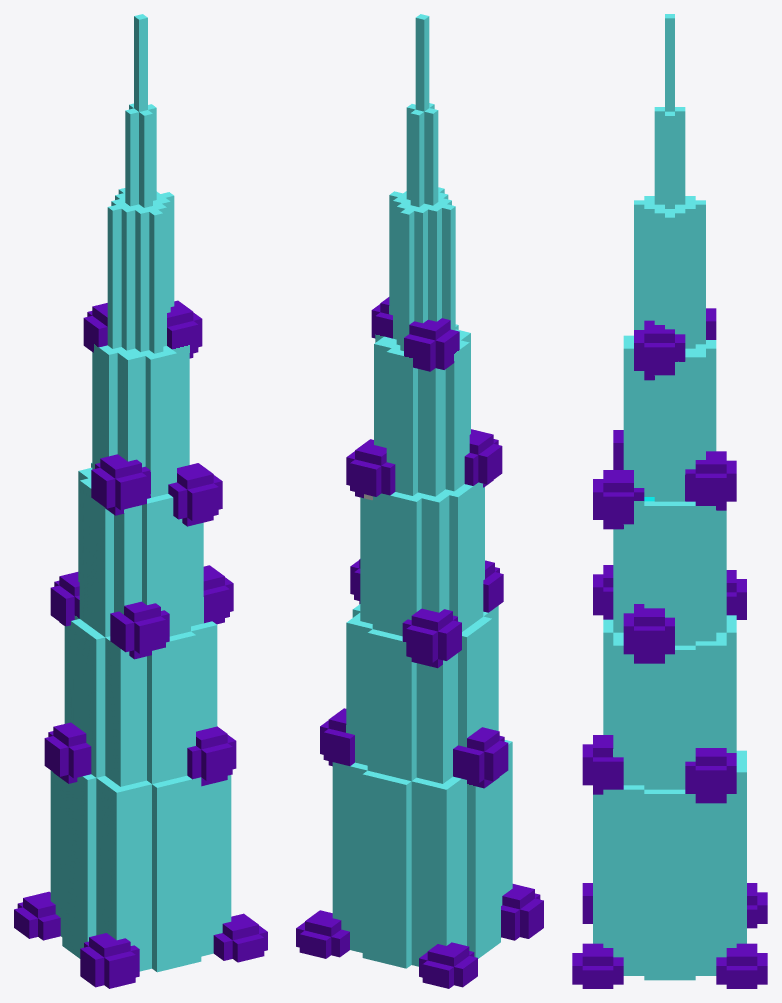
Rendered from Stalactite2.dae.
The picture shows the model from 3 angles, left to right: view 1: azimuth 30°, elevation 25°; view 2: azimuth 150°, elevation 25°; view 3: azimuth 270°, elevation 25°; orthographic projection.
Visible parts, largest first — view 1: Stalactite2; view 2: Stalactite2; view 3: Stalactite2.
Boxes of the visible parts, x1=… form: Stalactite2: x1=14, y1=14, x2=267, y2=988; Stalactite2: x1=296, y1=14, x2=543, y2=988; Stalactite2: x1=572, y1=14, x2=767, y2=988.
Size of the model in its own units: 1.9 by 10 by 1.9.
Materials: 1 (1 with a texture image).
